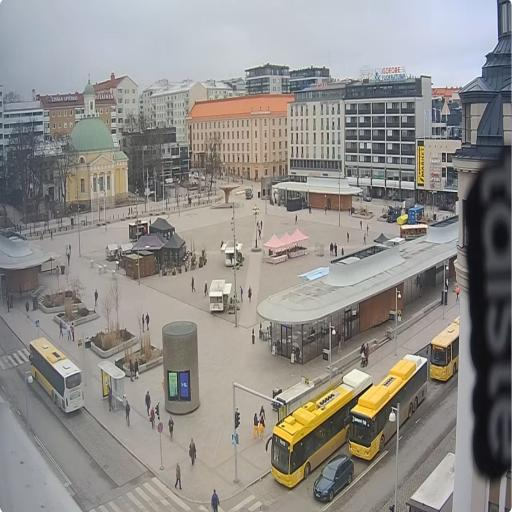bus: (264, 368, 374, 491), (344, 354, 432, 464), (28, 336, 87, 418), (425, 314, 459, 386)
car: (312, 454, 356, 506), (363, 194, 372, 203), (209, 176, 218, 184), (194, 171, 201, 180), (198, 173, 207, 180)
